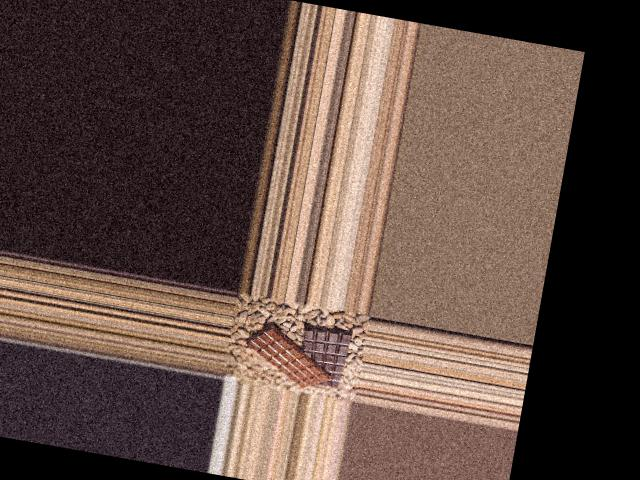chocolate: (295, 320, 359, 393)
